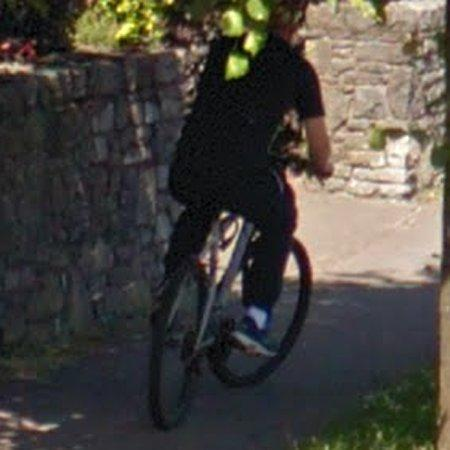bicycles: (149, 212, 313, 430)
